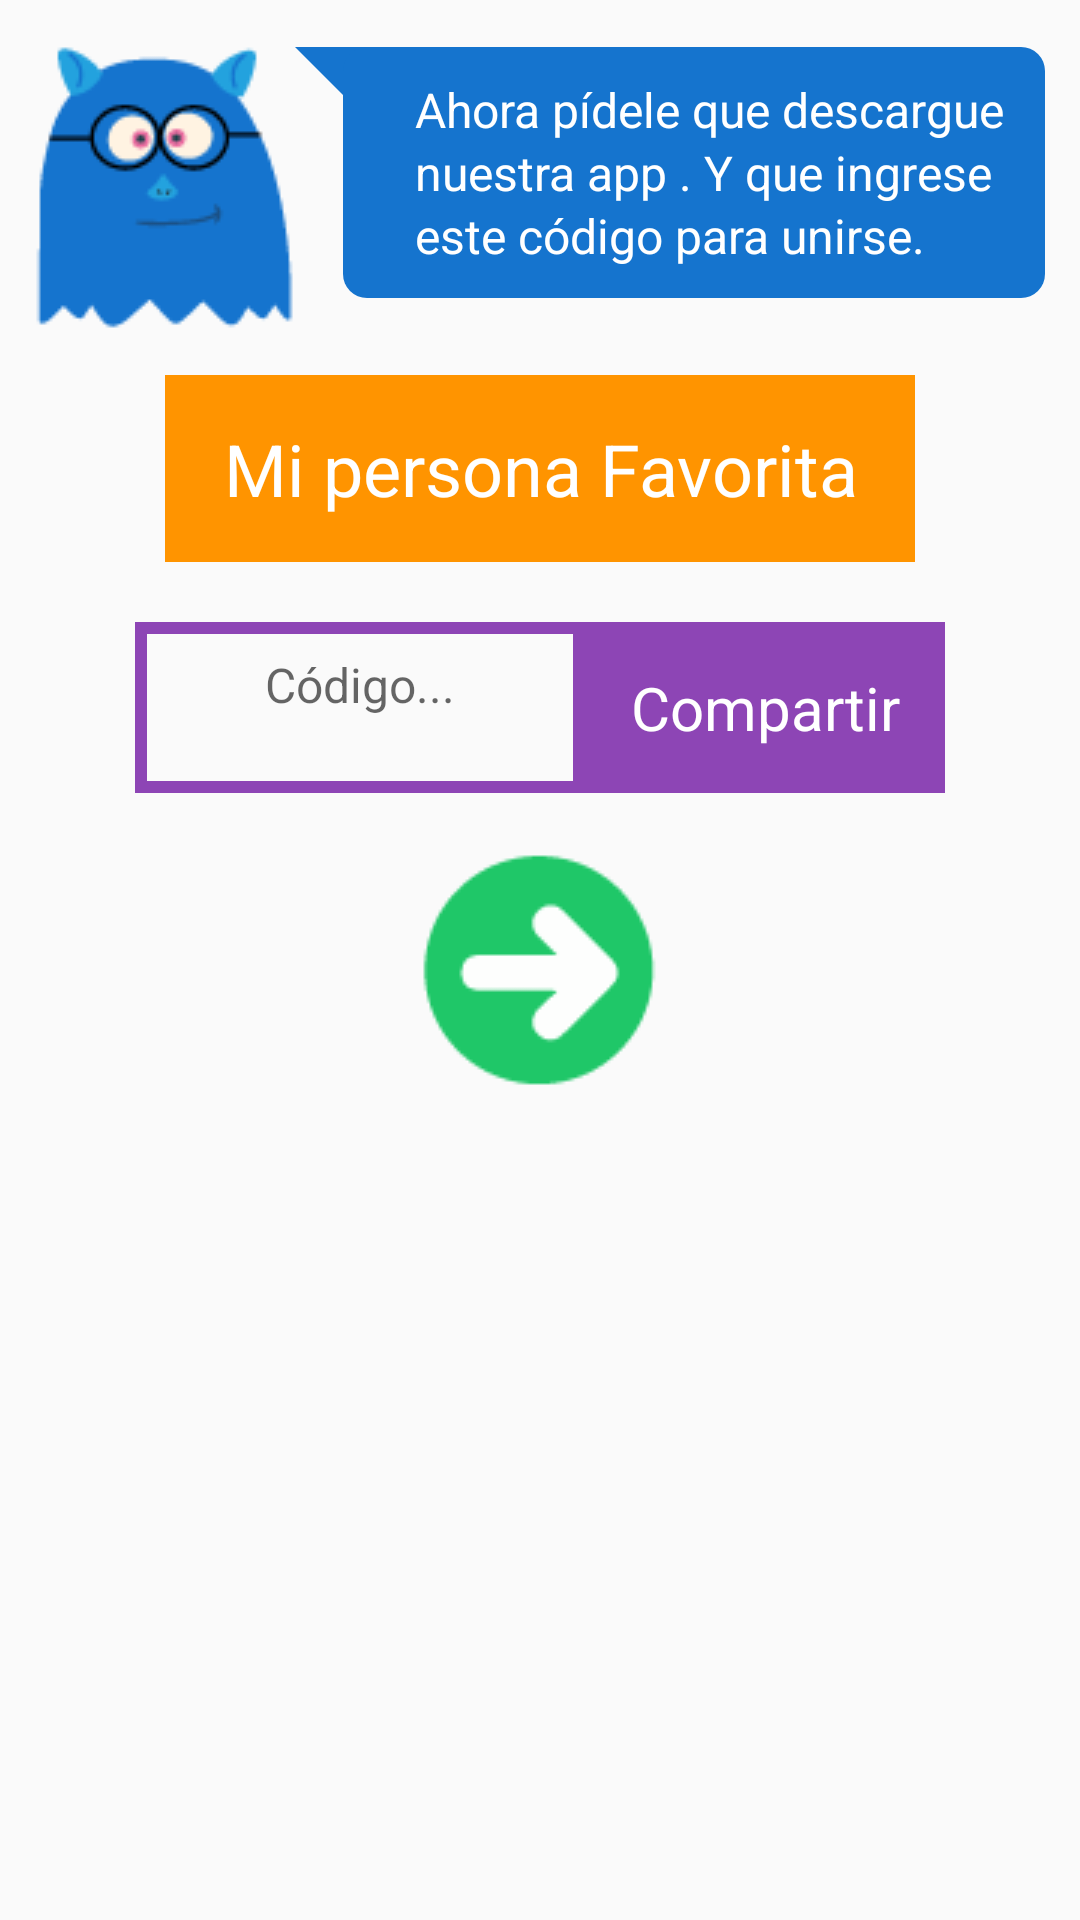

Where to tap for icons on this 1080x1920 app screen, as (x=x, y=y):
nerd: (x=165, y=187)
next: (x=539, y=970)
